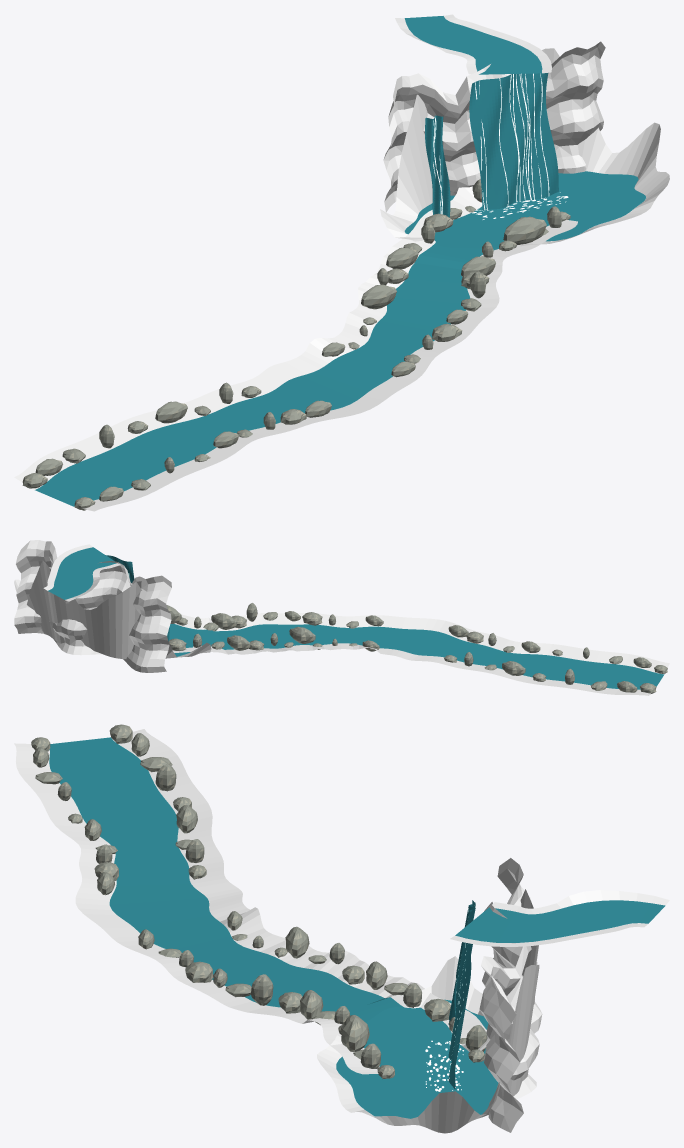
File: Biggas_City_039_v02_Cascade.glb
3 views of the same model, one above another, from view 1: azimuth 30°, elevation 25°; view 2: azimuth 150°, elevation 25°; view 3: azimuth 270°, elevation 25° (orthographic). The views are drawn at different scales.
Parts seen in each view (by area): view 1: Continuous meandering river, Continuous eroded basalt escarpment, Main waterfall veil, Irregular rocky pool shore, Natural river bank, Irregular plunge pool, Natural river bank.001, Highland feeder creek, Secondary cascade, F039_Rock_2.045, Upper creek weathered shore; view 2: Continuous meandering river, Continuous eroded basalt escarpment, Irregular rocky pool shore, Natural river bank.001, Natural river bank, Highland feeder creek, Irregular plunge pool, Upper creek weathered shore, F039_Rock_2.048, F039_Rock_2.047, F039_Rock_2.046, F039_Rock_2.053 (+1 smaller); view 3: Continuous meandering river, Irregular plunge pool, Natural river bank, Natural river bank.001, Continuous eroded basalt escarpment, Irregular rocky pool shore, Highland feeder creek, Upper creek weathered shore.001, Main waterfall veil, Upper creek weathered shore, F039_Rock_2.045.
Boxes of the visible parts, <box> form: Continuous meandering river: <box>35,242,498,506</box>; Continuous eroded basalt escarpment: <box>383,41,605,212</box>; Main waterfall veil: <box>469,73,558,210</box>; Irregular rocky pool shore: <box>380,48,669,246</box>; Natural river bank: <box>14,186,482,489</box>; Irregular plunge pool: <box>404,171,645,248</box>; Natural river bank.001: <box>74,219,577,511</box>; Highland feeder creek: <box>404,16,542,74</box>; Secondary cascade: <box>425,115,450,217</box>; F039_Rock_2.045: <box>503,216,546,244</box>; Upper creek weathered shore: <box>444,14,551,73</box>; Continuous meandering river: <box>184,624,664,689</box>; Continuous eroded basalt escarpment: <box>14,540,171,672</box>; Irregular rocky pool shore: <box>14,560,211,658</box>; Natural river bank.001: <box>174,613,669,674</box>; Natural river bank: <box>172,643,650,695</box>; Highland feeder creek: <box>48,547,116,599</box>; Irregular plunge pool: <box>169,624,194,656</box>; Upper creek weathered shore: <box>43,544,92,590</box>; F039_Rock_2.048: <box>289,626,315,643</box>; F039_Rock_2.047: <box>211,613,236,629</box>; F039_Rock_2.046: <box>227,635,250,650</box>; F039_Rock_2.053: <box>502,661,525,675</box>; Continuous meandering river: <box>49,737,413,1072</box>; Irregular plunge pool: <box>336,999,498,1118</box>; Natural river bank: <box>112,729,489,1059</box>; Natural river bank.001: <box>14,743,379,1074</box>; Continuous eroded basalt escarpment: <box>479,858,542,1132</box>; Irregular rocky pool shore: <box>317,889,539,1133</box>; Highland feeder creek: <box>455,900,665,942</box>; Upper creek weathered shore.001: <box>492,890,669,914</box>; Main waterfall veil: <box>448,900,475,1089</box>; Upper creek weathered shore: <box>450,923,647,946</box>; F039_Rock_2.045: <box>341,1014,369,1051</box>.
Size of the model in its own units: 366 by 72.41 by 227.
